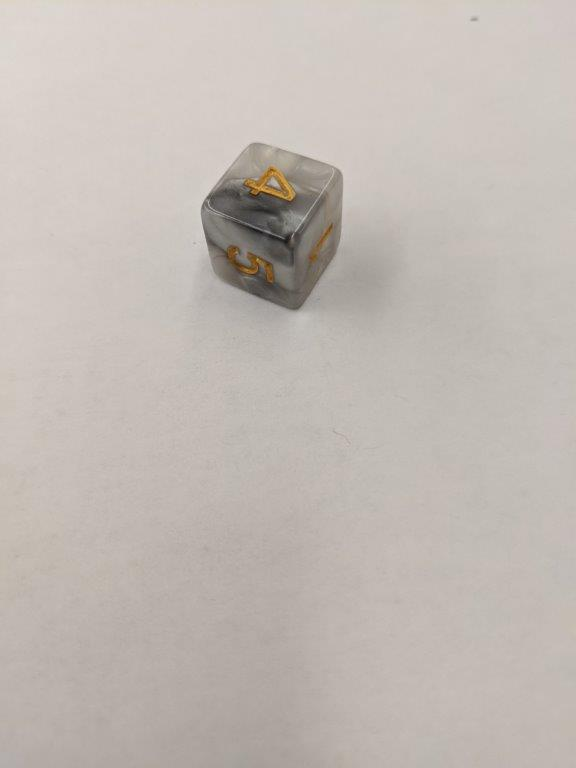d6-4: (202, 141, 344, 309)
